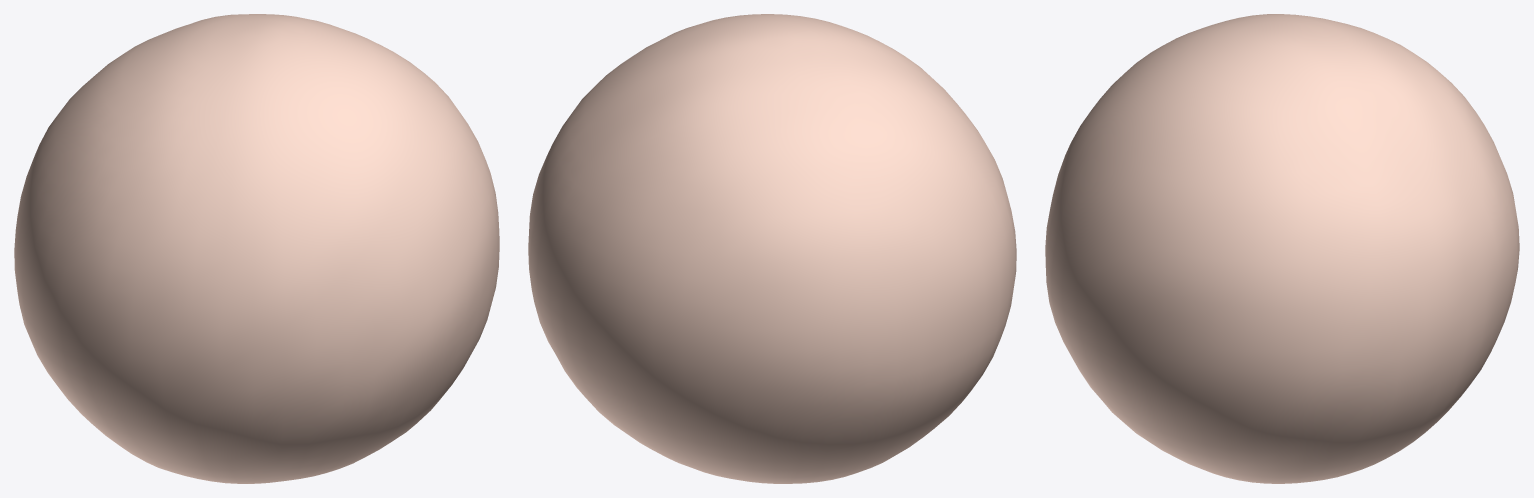
The model's file is animal-cell.glb.
3 views of the same model, side by side, from view 1: azimuth 30°, elevation 25°; view 2: azimuth 150°, elevation 25°; view 3: azimuth 270°, elevation 25° (orthographic).
Parts seen in each view (by area): view 1: part_membrane; view 2: part_membrane; view 3: part_membrane.
Part boxes in pixels (left/top/right/bottom): part_membrane: left=14, top=14, right=499, bottom=483; part_membrane: left=528, top=14, right=1016, bottom=483; part_membrane: left=1045, top=14, right=1519, bottom=483.
Bounding box in the file's own units: 1.99 × 1.88 × 1.91.
